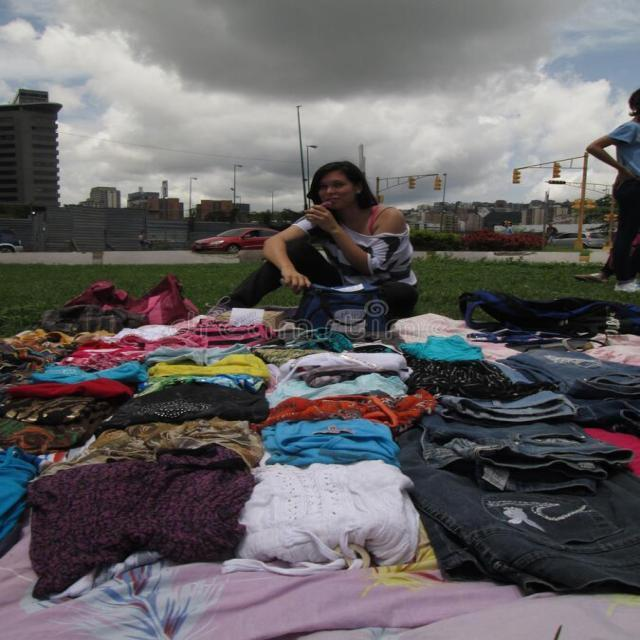clothes: (19, 279, 625, 632)
